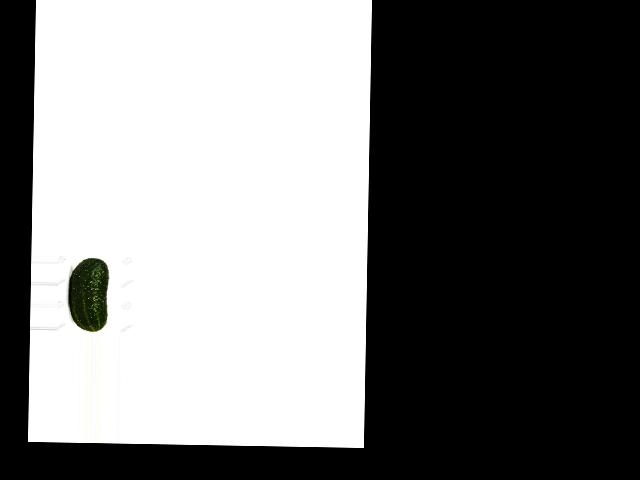cucumber: (68, 257, 107, 331)
